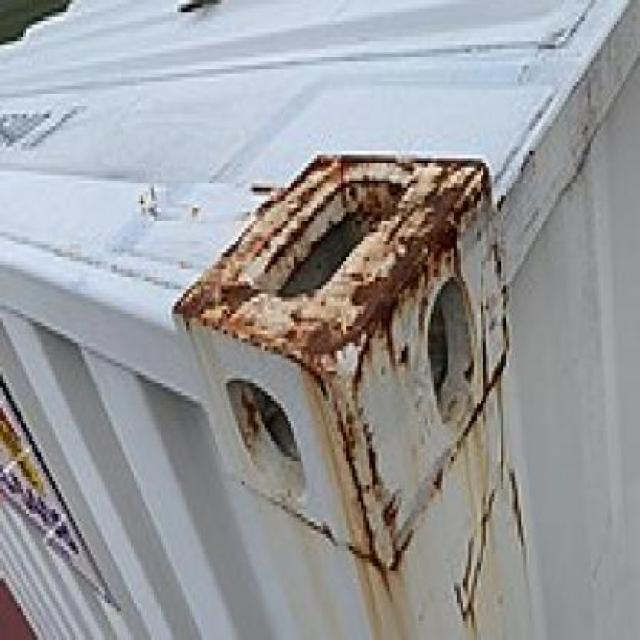rust: (174, 154, 491, 380)
